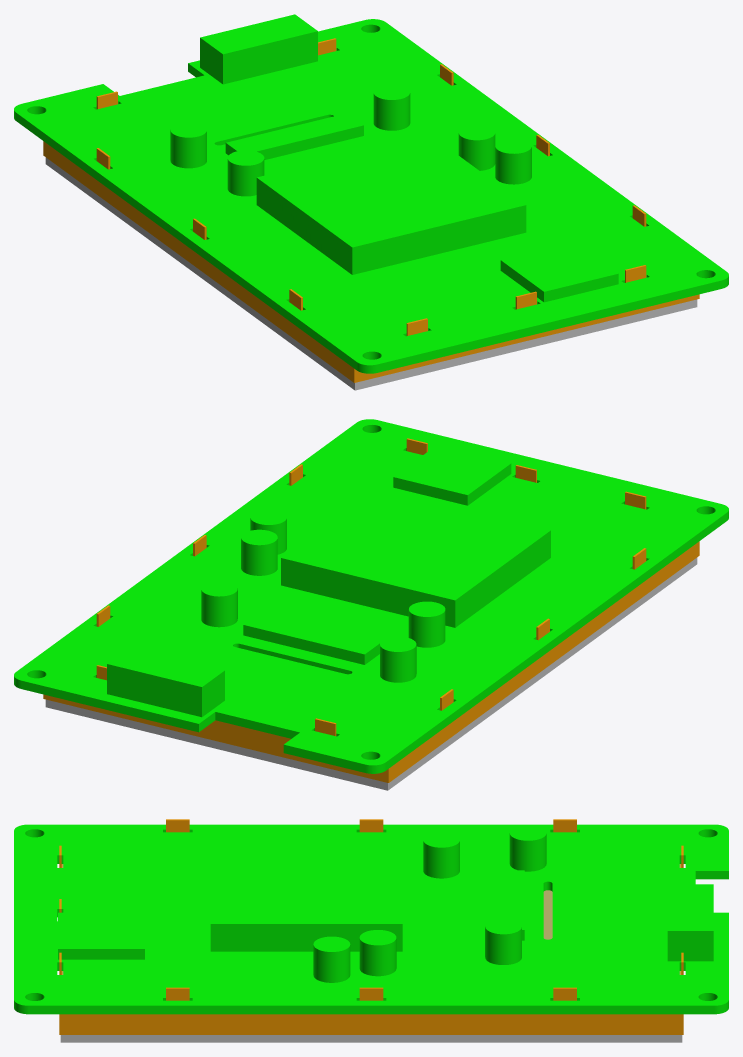
The model's file is AGM-070A0-I2-R.glb.
3 renders of one model, top to bottom at view 1: azimuth 30°, elevation 25°; view 2: azimuth 150°, elevation 25°; view 3: azimuth 270°, elevation 25°, orthographic.
Visible parts, largest first — view 1: DMG80480T070-A5WTR; view 2: DMG80480T070-A5WTR; view 3: DMG80480T070-A5WTR.
Boxes of the visible parts, x1,y1,x2,y2 form: DMG80480T070-A5WTR: (14,14,728,390); DMG80480T070-A5WTR: (14,419,728,790); DMG80480T070-A5WTR: (14,819,728,1042).
Size of the model in its own units: 0.0732 by 0.014 by 0.1219.
